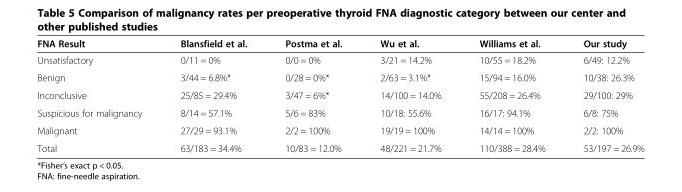table: (36, 37, 643, 153)
table column: (36, 37, 160, 153), (160, 37, 265, 153), (459, 37, 563, 153), (360, 37, 459, 153), (265, 37, 360, 153), (563, 37, 643, 153)
table column header: (36, 37, 643, 51)
table row: (36, 68, 643, 86), (36, 103, 643, 121), (36, 121, 643, 139), (36, 51, 643, 68), (36, 86, 643, 103), (36, 37, 643, 51), (36, 139, 643, 153)
